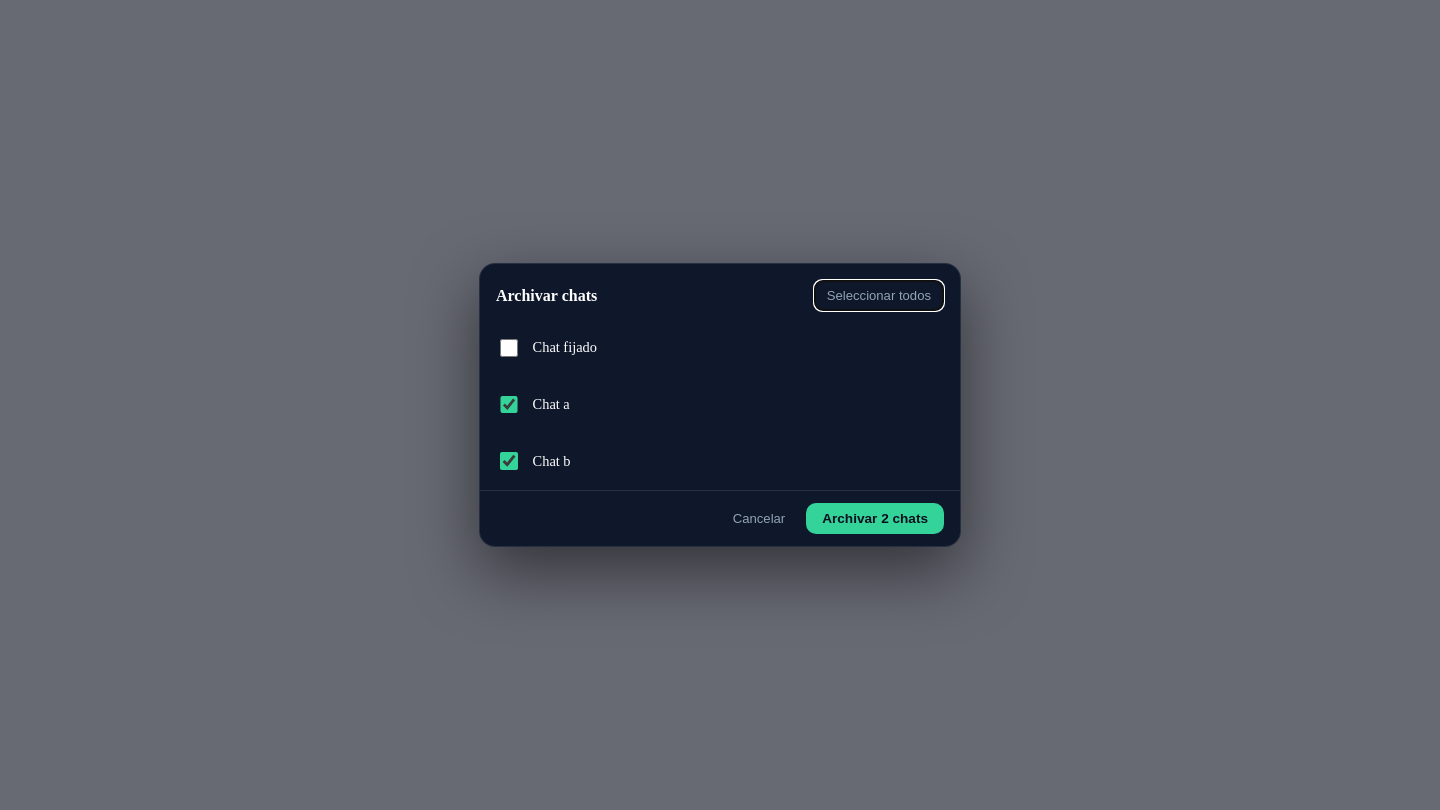
Test case: <ConversationArchiveDialog> › on a partial failure stays open with only the failed chats selected
This screenshot has width=1440, height=810.
Click the button "Archivar 2 chats".
click(875, 518)  # box x1=806 y1=503 x2=944 y2=534
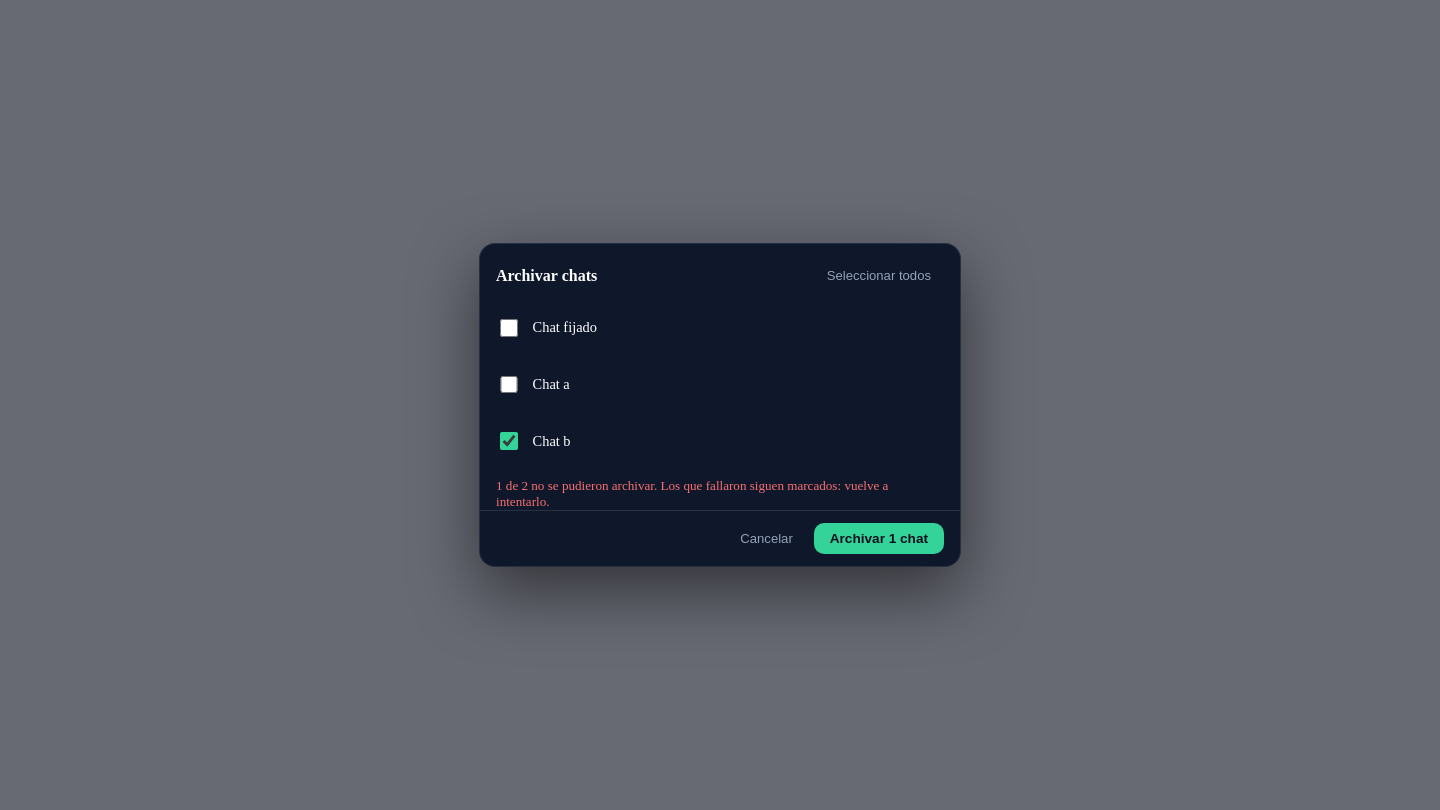
Expected: the checkbox labelled "Chat b" is checked, x1=500 y1=432 x2=518 y2=450
Now the message shows "1 de 2", box x1=496 y1=478 x2=888 y2=509
Now the checkbox labelled "Chat a" is not checked, box x1=500 y1=376 x2=518 y2=393
